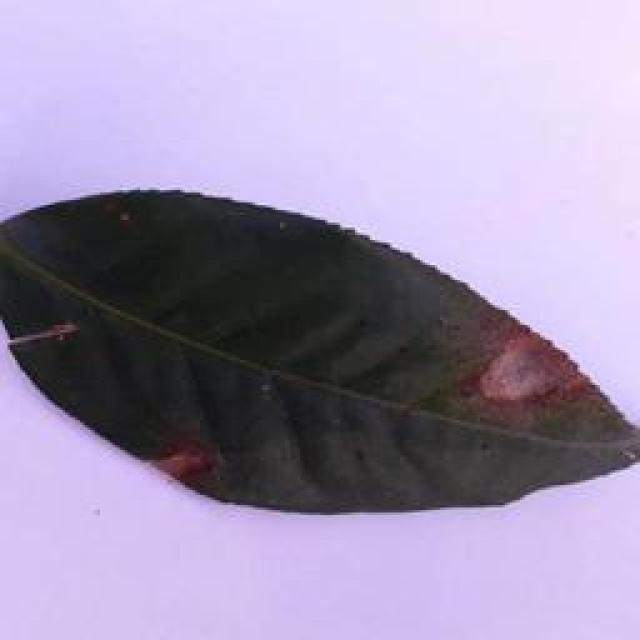Gray Blight: (0, 184, 640, 512)
